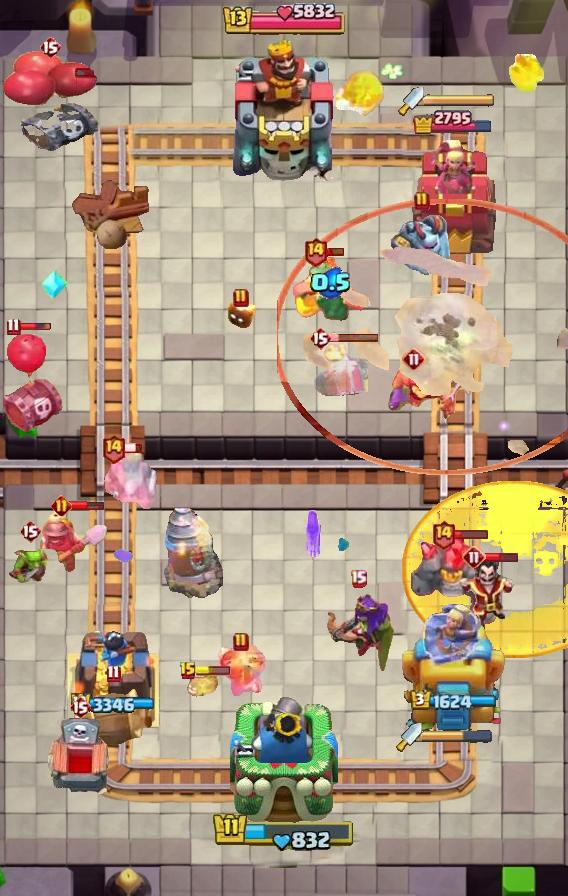bandit: (38, 505, 108, 575)
bar: (398, 595, 508, 731), (409, 138, 497, 256)
barbarian-hut: (318, 590, 398, 678)
bomber: (226, 298, 256, 330)
cannoneer-tower: (409, 531, 503, 627)
clock: (212, 811, 356, 853), (221, 0, 347, 40)
electro-spirit: (310, 267, 352, 299)
electro-wizard: (293, 252, 369, 326)
elixir-golem-mid: (45, 717, 115, 803)
elixir-golem-small: (390, 211, 454, 277)
emote: (328, 332, 380, 343), (485, 551, 520, 563), (69, 500, 105, 511), (453, 528, 489, 539), (195, 666, 231, 676), (18, 322, 52, 332), (325, 246, 345, 258), (123, 442, 143, 454)
fireball: (386, 364, 474, 426)
goblin: (304, 510, 324, 560)
ice-spirit-evolution: (185, 673, 219, 699)
king-tower: (228, 35, 340, 181), (230, 692, 338, 826)
king-tower-bar: (424, 93, 496, 107), (422, 730, 492, 744)
lumberjack: (456, 558, 518, 634)
magic-archer: (163, 507, 223, 599)
mortar-evolution: (298, 343, 368, 401), (102, 446, 160, 514)
pad_2: (40, 267, 68, 301)
phoenix-egg: (402, 480, 568, 658)
queen-tower: (66, 621, 162, 731)
royal-ghost: (277, 199, 568, 475)
royal-recruit-evolution: (0, 49, 102, 157), (0, 332, 66, 436)
selected: (412, 108, 494, 134), (411, 689, 498, 711), (71, 693, 157, 715)
skeleton-dragon: (214, 643, 268, 697)
text: (431, 518, 456, 549), (101, 433, 126, 463), (304, 237, 328, 267), (402, 347, 426, 371), (462, 545, 486, 569), (39, 35, 61, 59), (309, 326, 331, 350), (19, 519, 41, 543), (69, 695, 91, 719), (51, 495, 73, 517), (179, 661, 197, 681), (350, 568, 367, 587), (414, 191, 430, 211), (233, 288, 249, 308), (233, 632, 249, 652), (106, 665, 121, 683), (7, 316, 21, 335)
the-log: (71, 686, 155, 748)
valkyrie: (335, 65, 387, 121), (503, 54, 549, 96)
zap: (8, 543, 52, 585)
